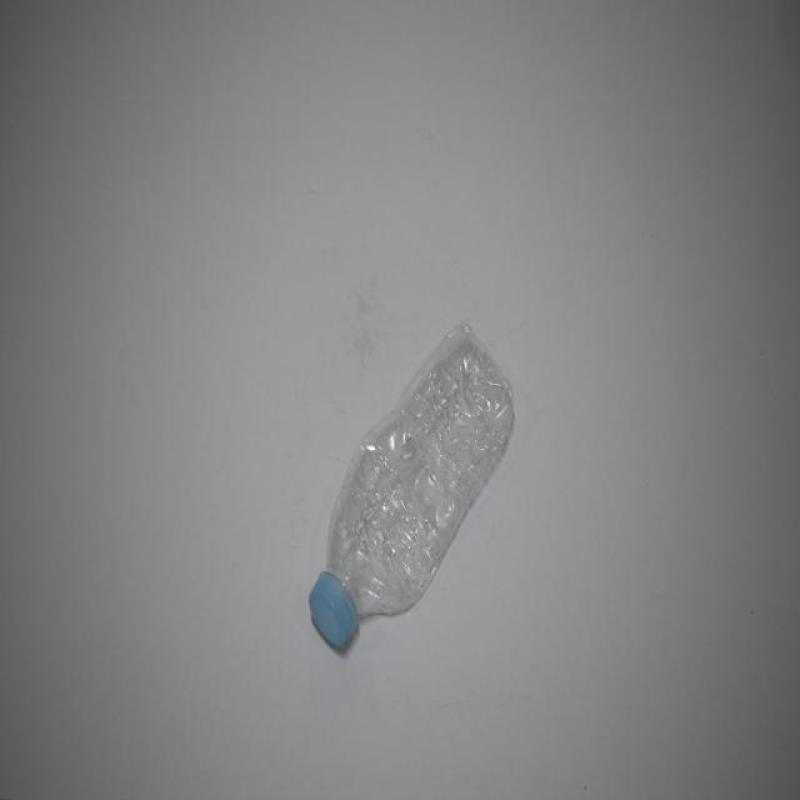botella: (309, 322, 516, 656)
